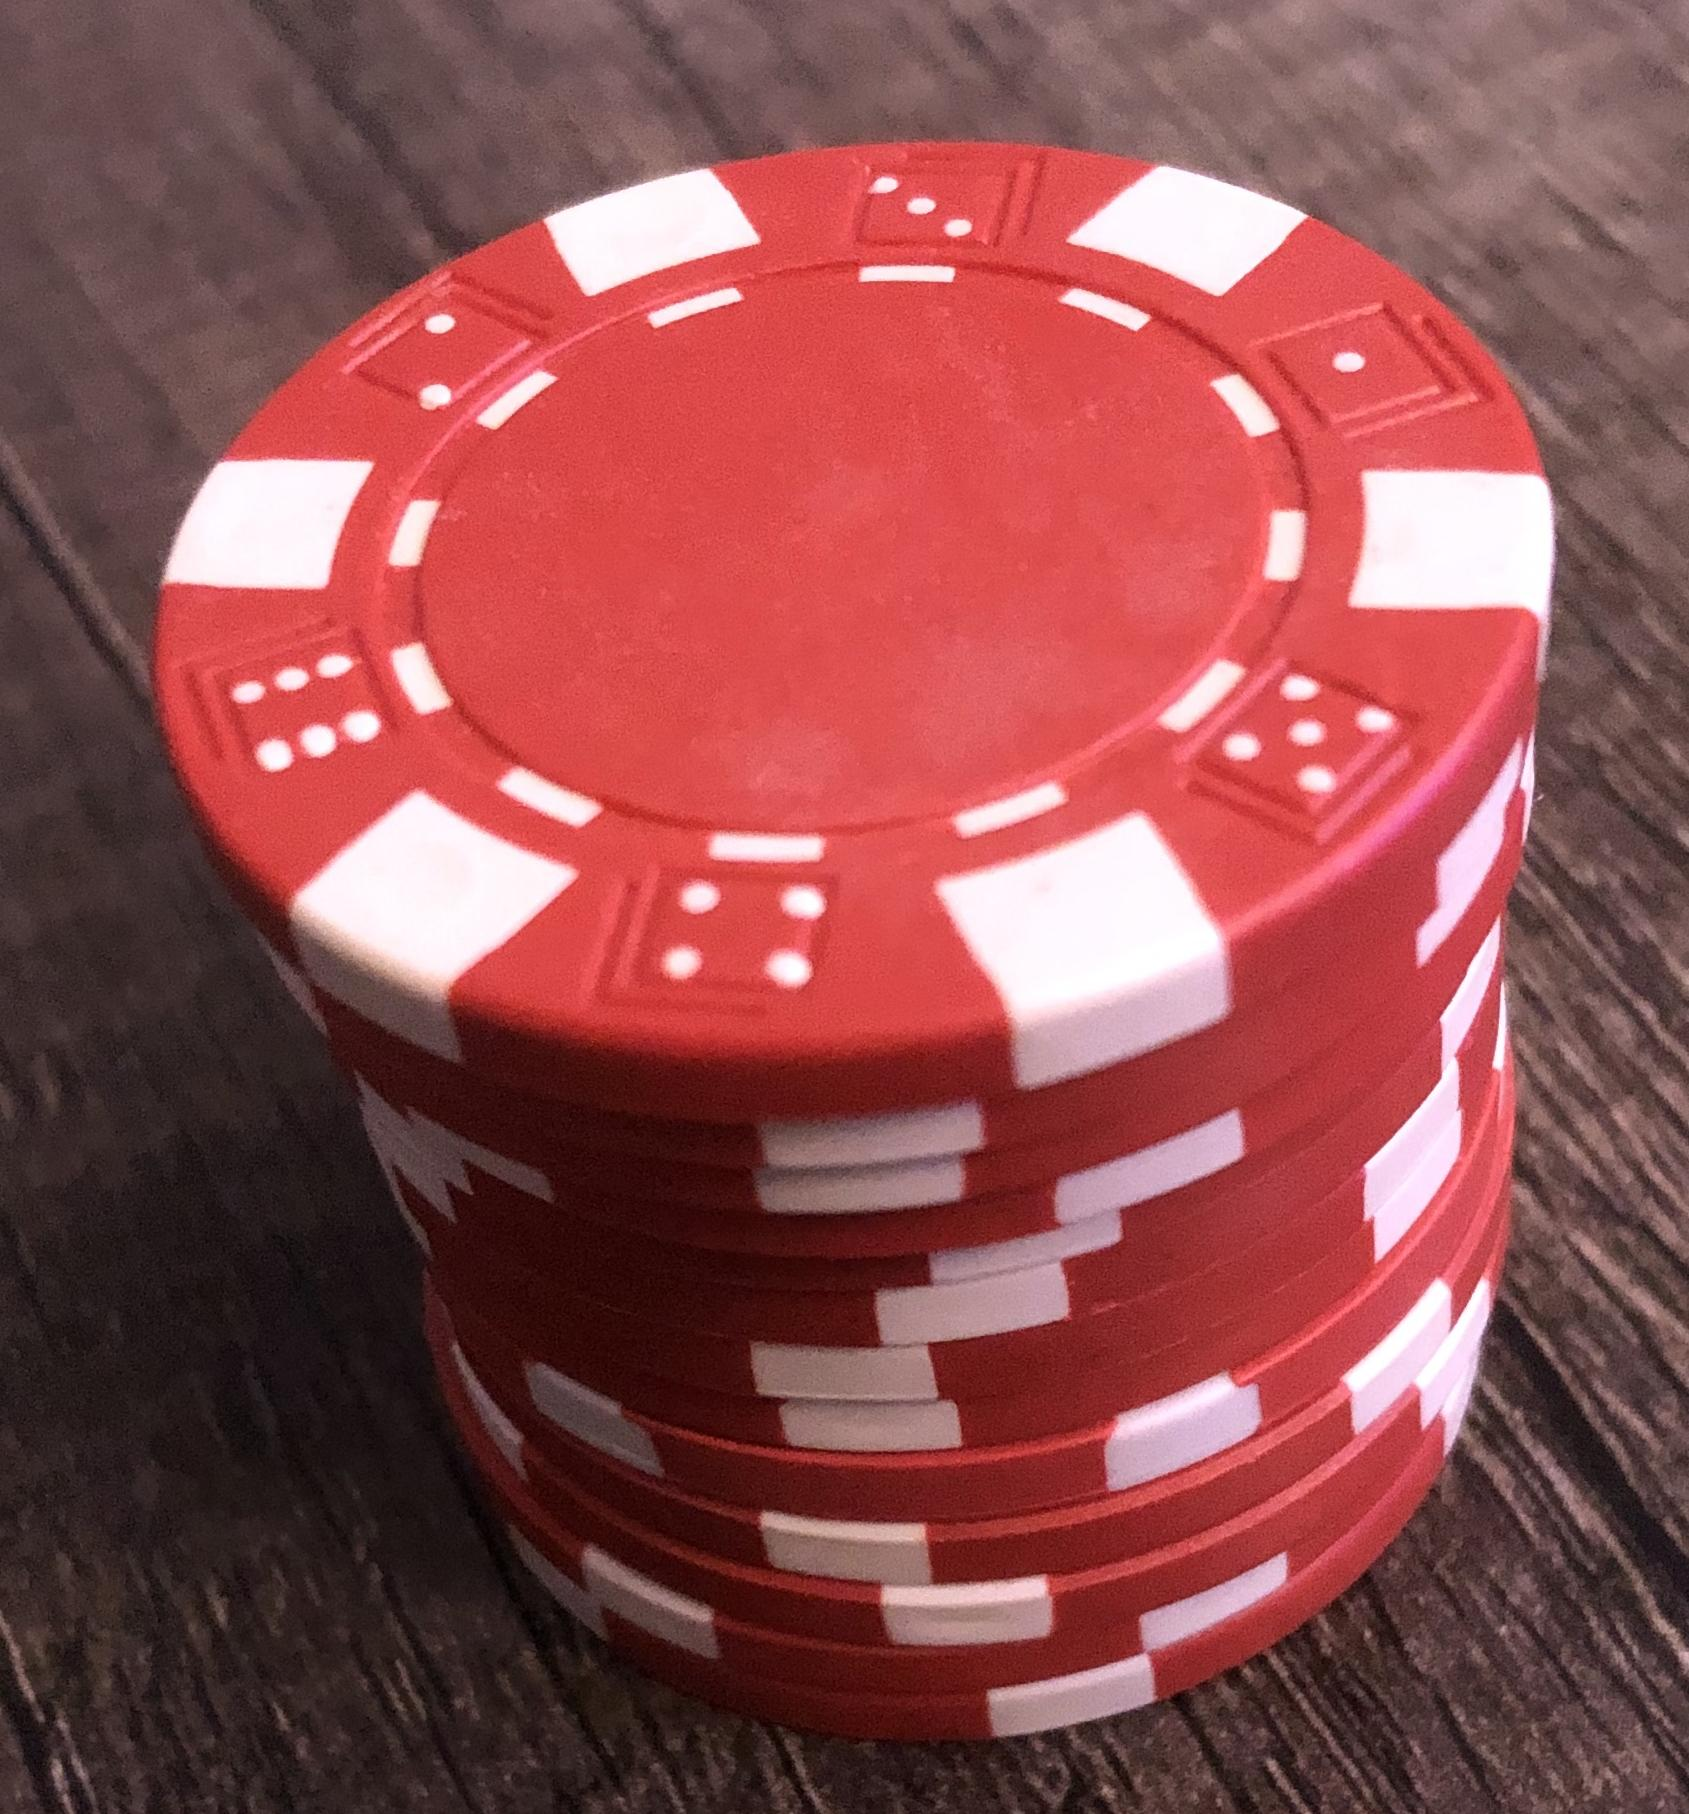Chip: (2, 2, 1689, 1814)
